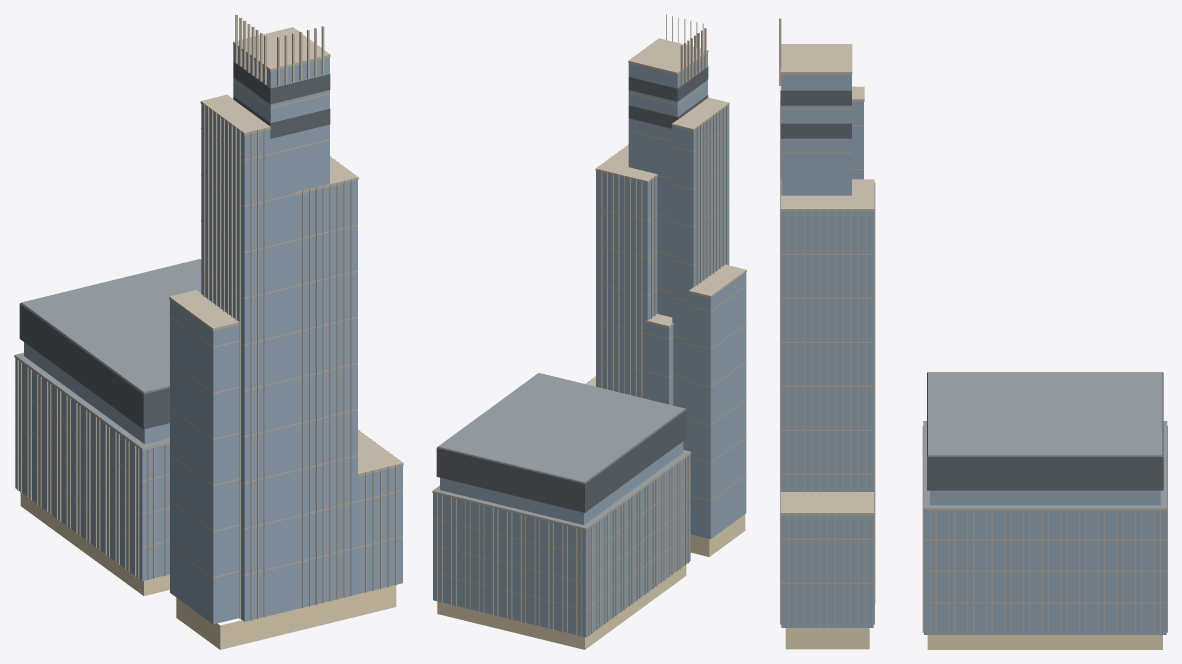
The model's file is det-hudsons-detroit.glb.
3 views of the same model, side by side, from view 1: azimuth 30°, elevation 25°; view 2: azimuth 150°, elevation 25°; view 3: azimuth 270°, elevation 25° (orthographic). The views are drawn at different scales.
Parts seen in each view (by area): view 1: Hudson's Detroit; view 2: Hudson's Detroit; view 3: Hudson's Detroit.
Part boxes in pixels (<box>): Hudson's Detroit: <box>14,15,403,649</box>; Hudson's Detroit: <box>432,14,746,649</box>; Hudson's Detroit: <box>779,18,1167,649</box>.
Bounding box in the file's own units: 68.5 × 209 × 128.
